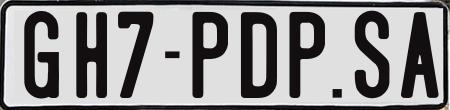7: (115, 12, 156, 100)
A: (400, 9, 433, 96)
D: (239, 9, 279, 101)
G: (22, 8, 59, 100)
H: (74, 12, 108, 102)
P: (289, 11, 327, 100), (190, 10, 227, 101)
S: (355, 8, 390, 98)
